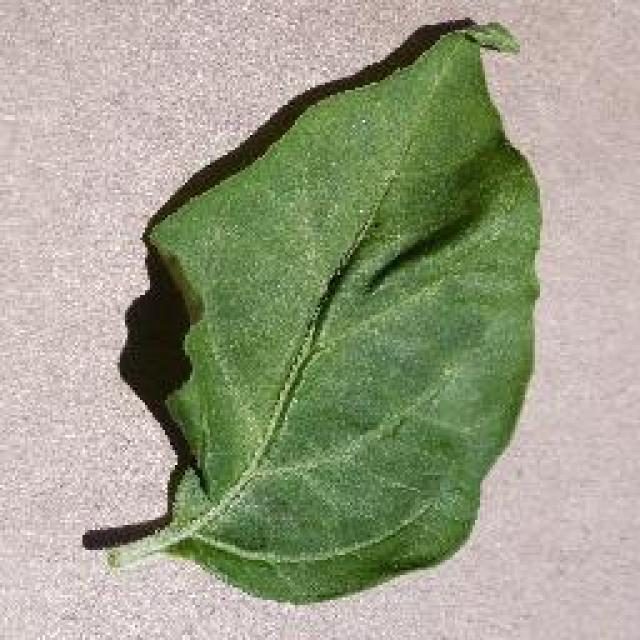Chilli_Healthy: (80, 15, 542, 605)
